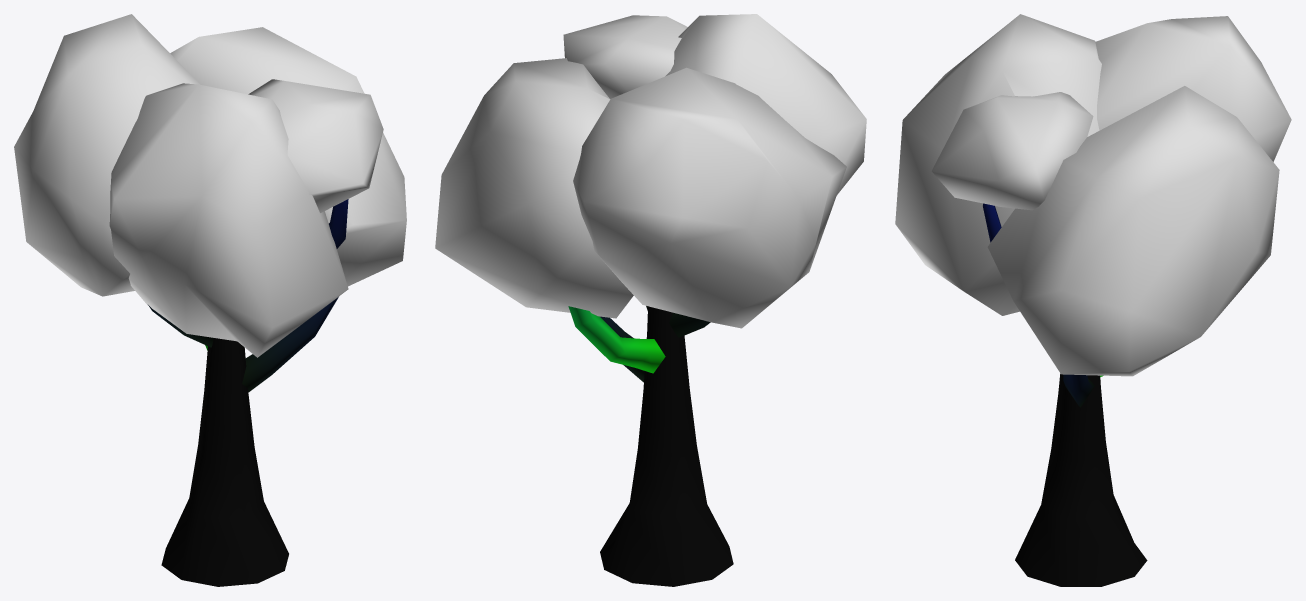
The model's file is Tree_cal.fbx.
The picture shows the model from 3 angles, left to right: view 1: azimuth 30°, elevation 25°; view 2: azimuth 150°, elevation 25°; view 3: azimuth 270°, elevation 25°; orthographic projection. The views are drawn at different scales.
Visible parts, largest first — view 1: Tree; view 2: Tree; view 3: Tree.
Boxes of the visible parts, x1,y1,x2,y2 form: Tree: (14, 14, 406, 586); Tree: (435, 14, 866, 586); Tree: (895, 14, 1291, 586).
Bounding box in the file's own units: 344 × 481 × 333.
